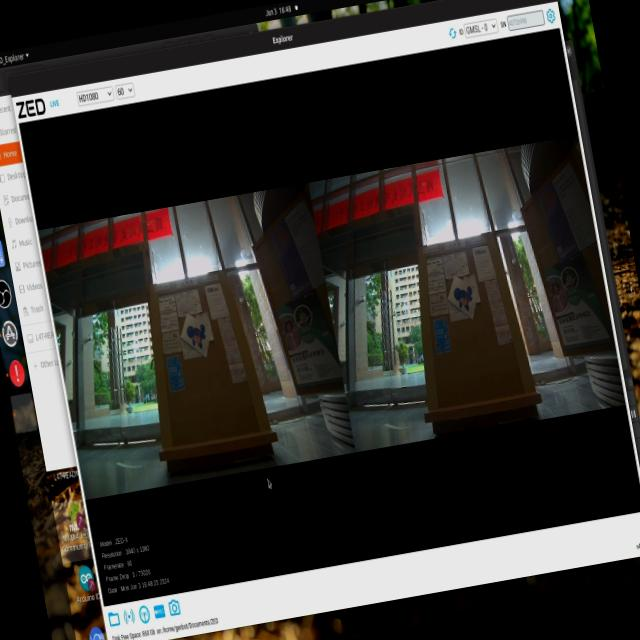blue: (447, 268, 482, 316), (182, 318, 217, 357)
